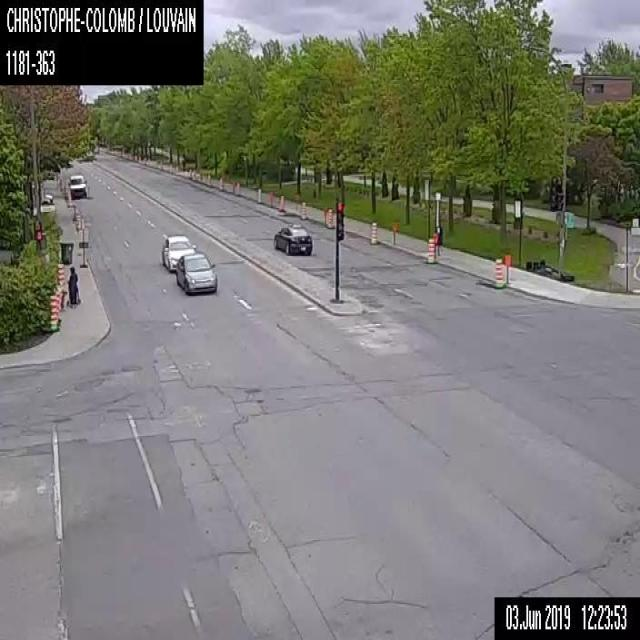construction: (78, 227, 88, 266), (49, 294, 59, 332), (493, 257, 502, 288), (503, 253, 511, 284), (55, 285, 61, 325), (58, 263, 66, 292), (427, 237, 435, 261), (369, 221, 377, 244), (326, 207, 334, 228), (432, 232, 438, 258), (300, 200, 306, 220), (66, 188, 72, 206), (62, 180, 68, 198), (392, 222, 396, 244), (75, 210, 80, 227), (279, 194, 284, 211), (234, 180, 239, 195), (72, 203, 76, 220), (269, 191, 273, 205), (219, 175, 223, 189), (257, 187, 261, 201), (206, 173, 210, 184), (192, 169, 196, 180), (188, 167, 192, 178), (80, 218, 85, 226)
pedestrian: (66, 264, 78, 305)
vehicle: (176, 250, 217, 294), (159, 233, 195, 272), (273, 222, 312, 254), (67, 172, 88, 199), (40, 192, 55, 213)
